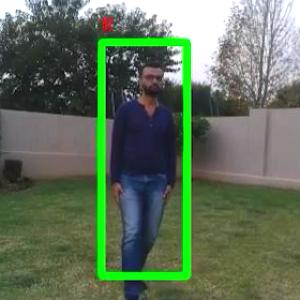follow: (102, 39, 184, 299)
